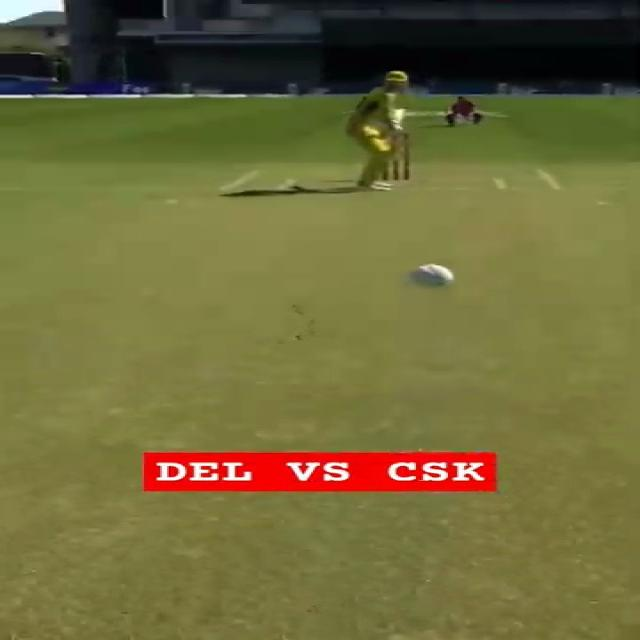ball: (400, 262, 455, 290)
